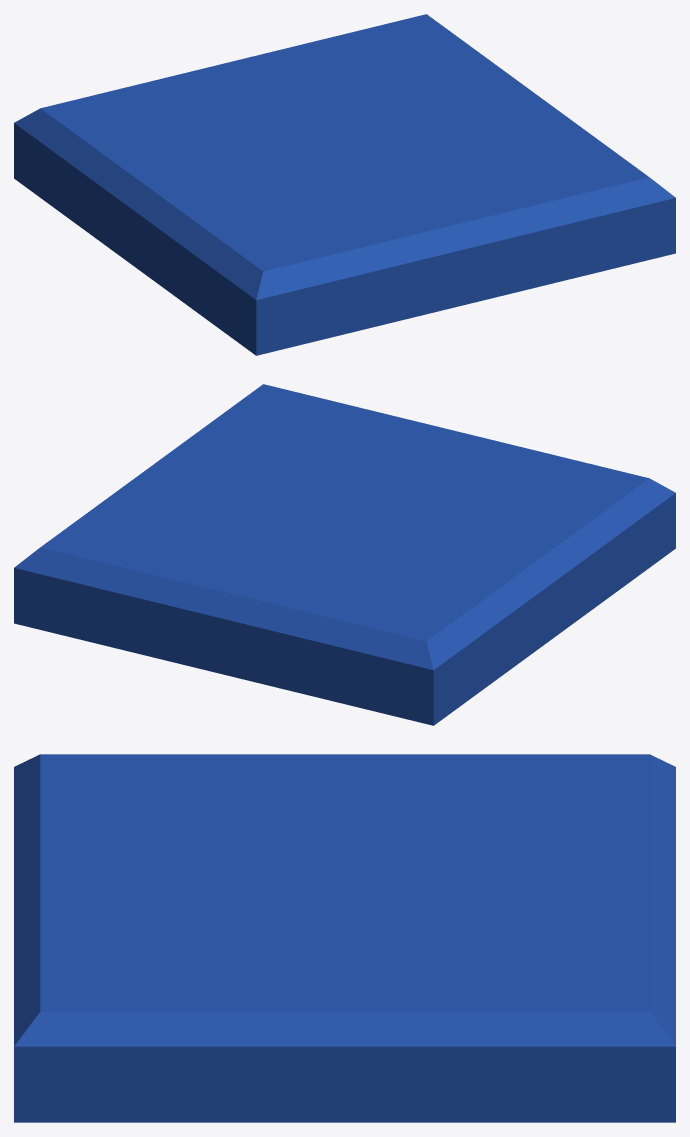
Rendered from RiverTile.fbx.
The picture shows the model from 3 angles, top to bottom: view 1: azimuth 30°, elevation 25°; view 2: azimuth 150°, elevation 25°; view 3: azimuth 270°, elevation 25°; orthographic projection. The views are drawn at different scales.
Visible parts, largest first — view 1: Cube; view 2: Cube; view 3: Cube.
Boxes of the visible parts, x1,y1,x2,y2 form: Cube: [14, 14, 675, 355]; Cube: [14, 384, 675, 725]; Cube: [14, 754, 675, 1122].
Size of the model in its own units: 600 by 100 by 600.
